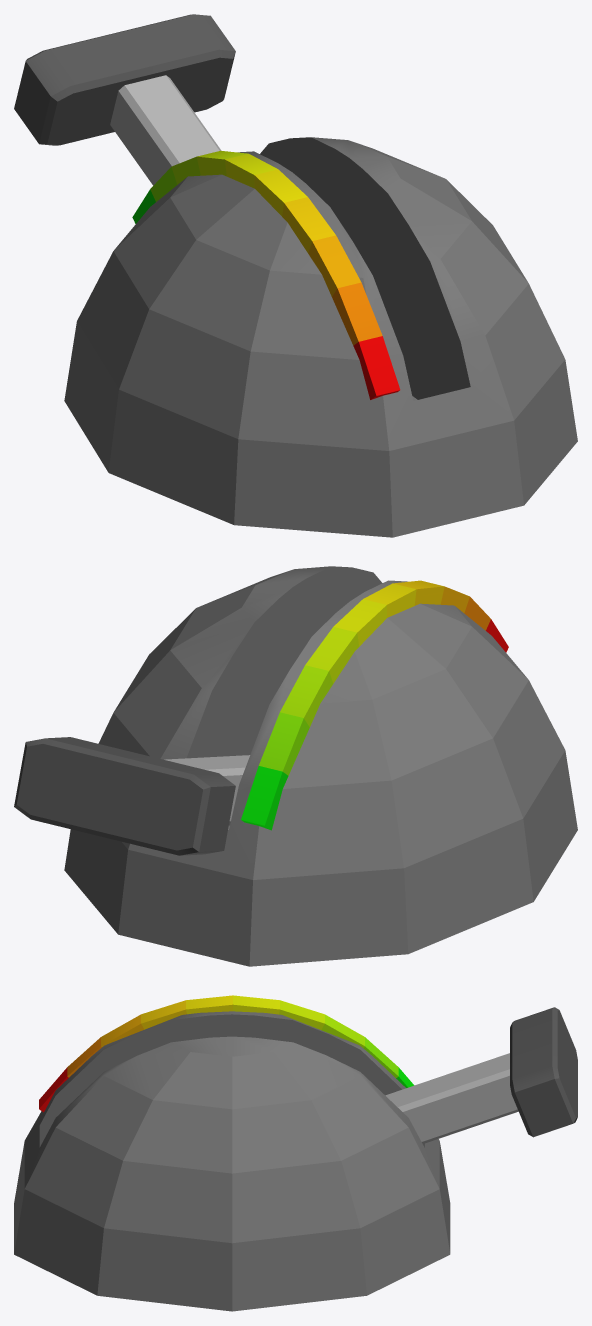
File: ThrottleSystem.fbx
3 renders of one model, top to bottom at view 1: azimuth 30°, elevation 25°; view 2: azimuth 150°, elevation 25°; view 3: azimuth 270°, elevation 25°, orthographic. The views are drawn at different scales.
Parts seen in each view (by area): view 1: Throttle, ThrottleHandle; view 2: Throttle, ThrottleHandle; view 3: Throttle, ThrottleHandle.
Part boxes in pixels (x1,y1,x2,y2): Throttle: (64, 137, 577, 537); ThrottleHandle: (14, 14, 235, 185); Throttle: (64, 566, 577, 966); ThrottleHandle: (14, 737, 250, 855); Throttle: (14, 995, 450, 1311); ThrottleHandle: (385, 1007, 577, 1143).
Size of the model in its own units: 16.37 by 9.63 by 23.67.
